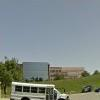Bus: (9, 76, 68, 100)
